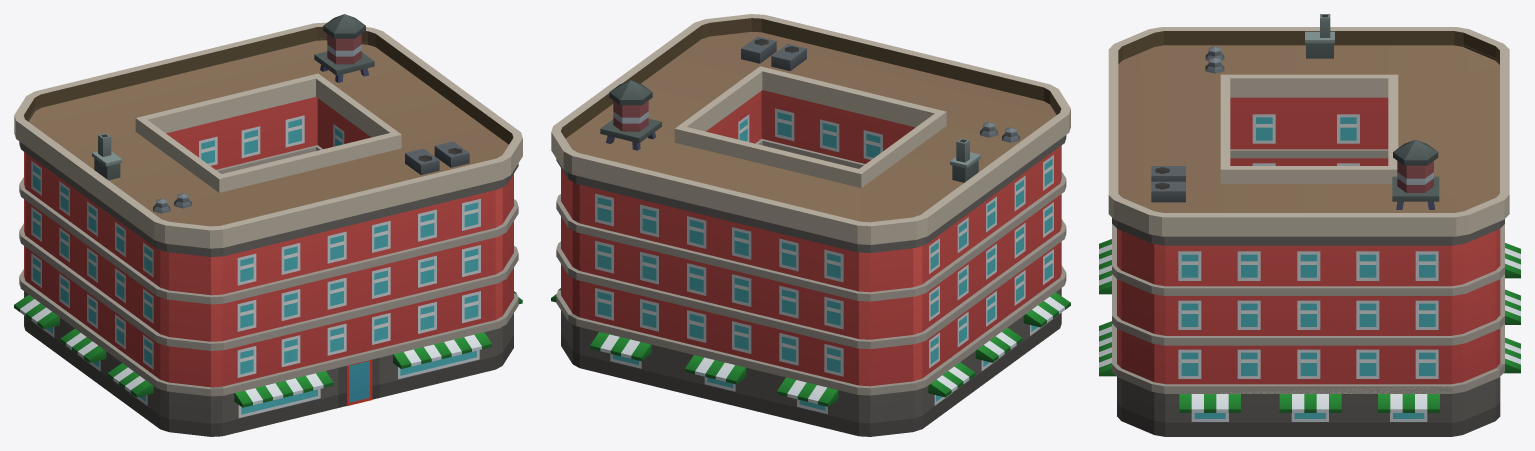
The model's file is Building_cartoon_45.fbx.
3 renders of one model, left to right at view 1: azimuth 30°, elevation 25°; view 2: azimuth 150°, elevation 25°; view 3: azimuth 270°, elevation 25°, orthographic. The views are drawn at different scales.
Visible parts, largest first — view 1: Building_cartoon_45; view 2: Building_cartoon_45; view 3: Building_cartoon_45.
Boxes of the visible parts, bbox=[...] form: Building_cartoon_45: bbox=[14, 14, 522, 436]; Building_cartoon_45: bbox=[551, 14, 1070, 436]; Building_cartoon_45: bbox=[1099, 14, 1520, 436].
Size of the model in its own units: 2632 by 1663 by 2342.
